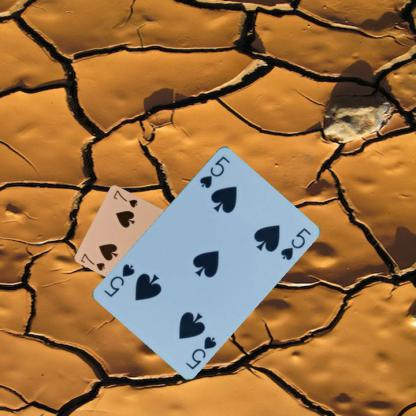5s: (196, 152, 232, 190), (183, 333, 218, 371)
7s: (78, 251, 106, 272)
